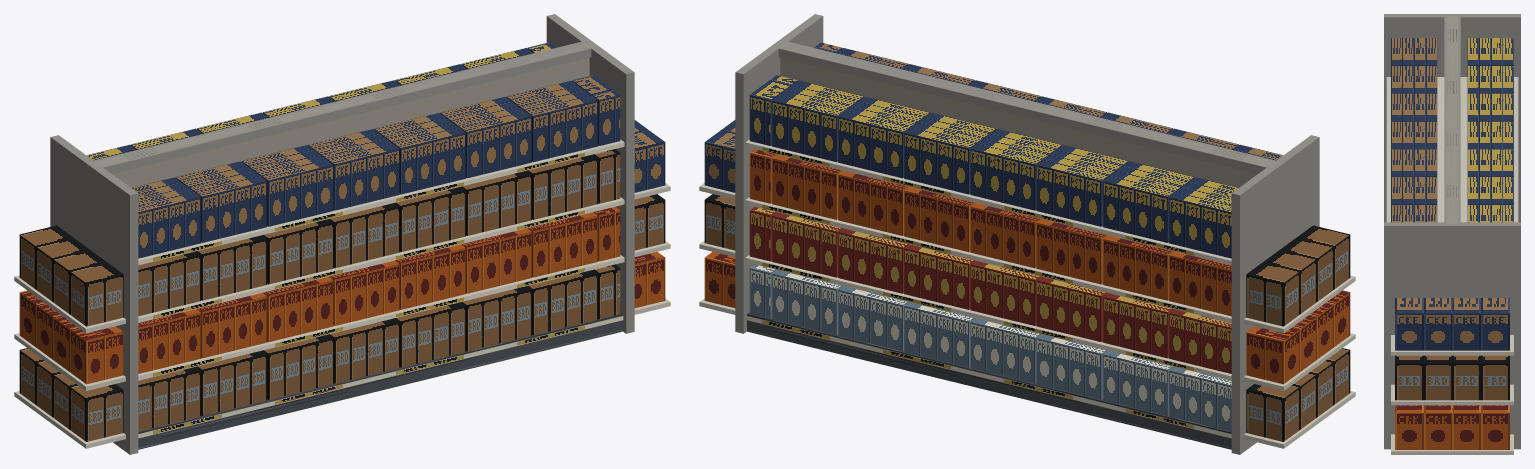
File: COM_Gondola_Bread.glb
3 renders of one model, left to right at view 1: azimuth 30°, elevation 25°; view 2: azimuth 150°, elevation 25°; view 3: azimuth 270°, elevation 25°, orthographic. The views are drawn at different scales.
Visible parts, largest first — view 1: COM_Gondola_Bread_Mesh; view 2: COM_Gondola_Bread_Mesh; view 3: COM_Gondola_Bread_Mesh.
Part boxes in pixels (x1=…): COM_Gondola_Bread_Mesh: x1=14, y1=14, x2=670, y2=454; COM_Gondola_Bread_Mesh: x1=699, y1=14, x2=1355, y2=454; COM_Gondola_Bread_Mesh: x1=1384, y1=14, x2=1520, y2=454.
Size of what is drawn, in the model's own units: 4.24 by 1.8 by 1.
1 material, 1 textured.
